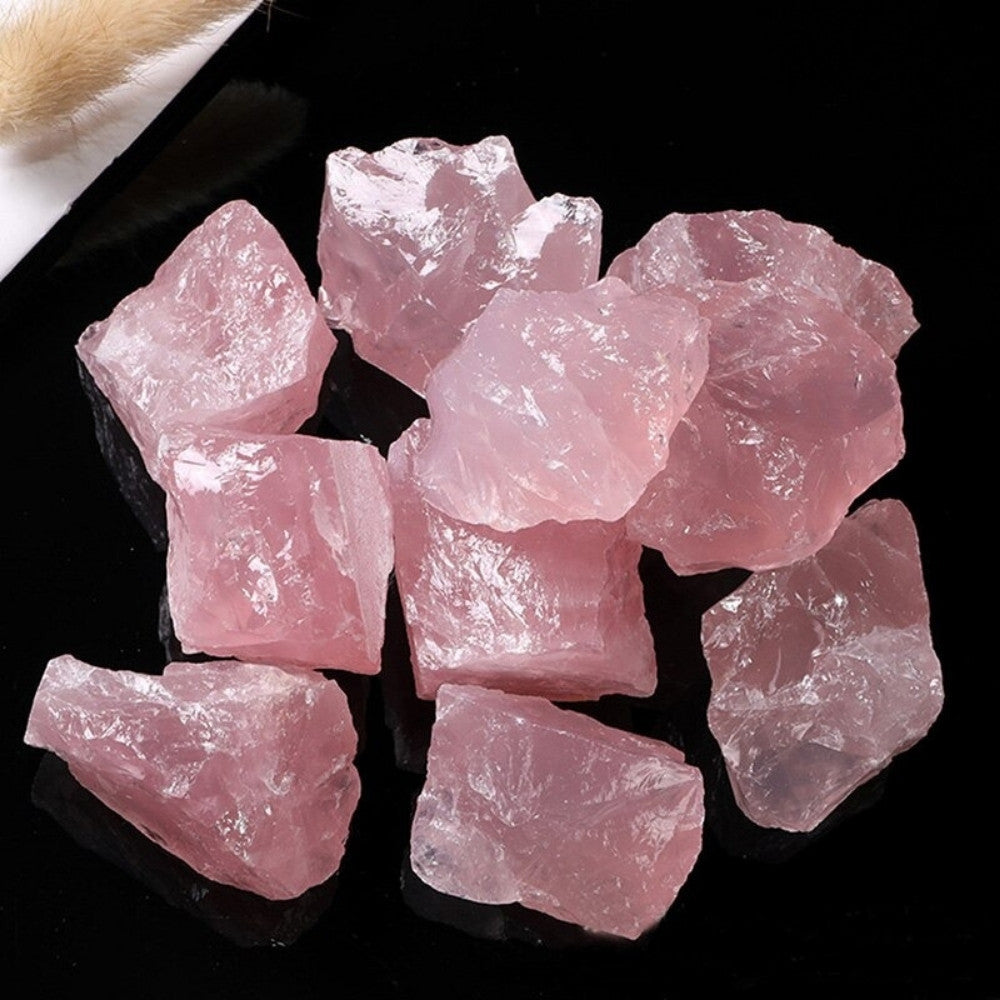Rose_Quartz: (417, 266, 711, 539), (403, 686, 708, 943), (150, 426, 401, 674)
